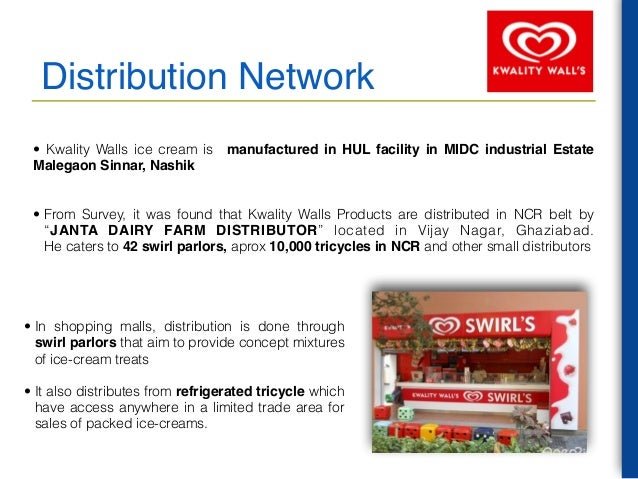Kwality_Walls: (495, 16, 584, 66), (421, 312, 465, 340)
